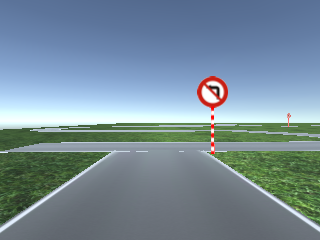0: (1, 186, 320, 239)
NoLeft: (196, 75, 229, 108)
